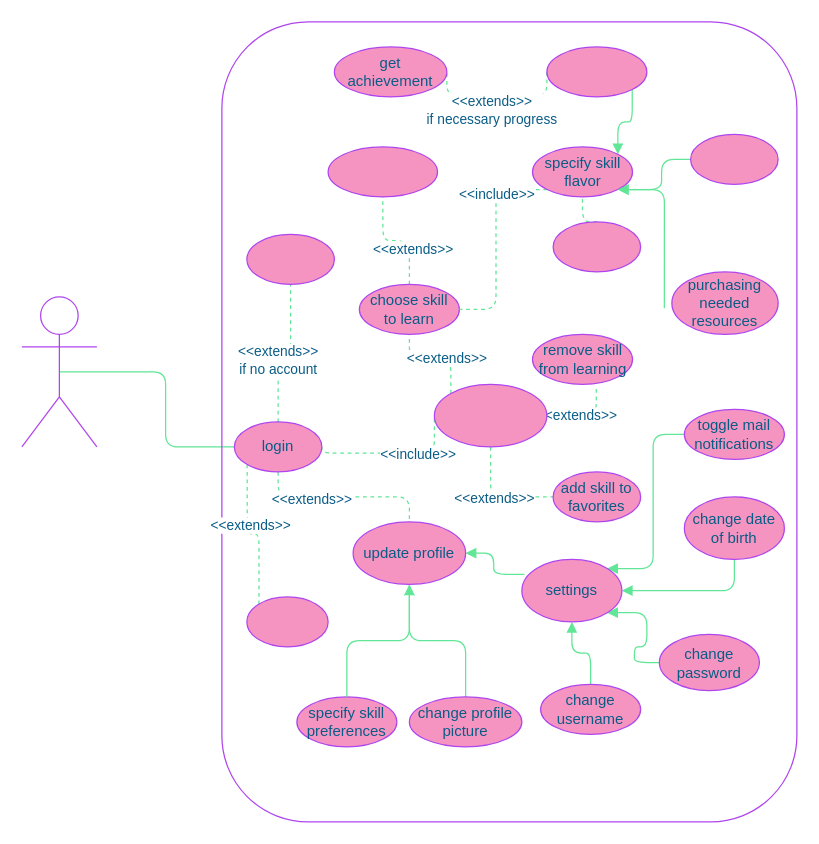
The diagram is 819 pixels wide and 844 high, and some of its shapes have lost their labels. Each missing label, with the box of its shape:
logout: (246, 596, 328, 647)
navigate the skill subsections: (327, 146, 438, 197)
reading articles: (552, 221, 641, 272)
registration: (246, 233, 334, 284)
specifiy having done tutorial: (546, 46, 647, 97)
Utilizator: (21, 296, 97, 447)
view skills participations: (433, 383, 547, 447)
watching videos: (689, 133, 778, 184)
